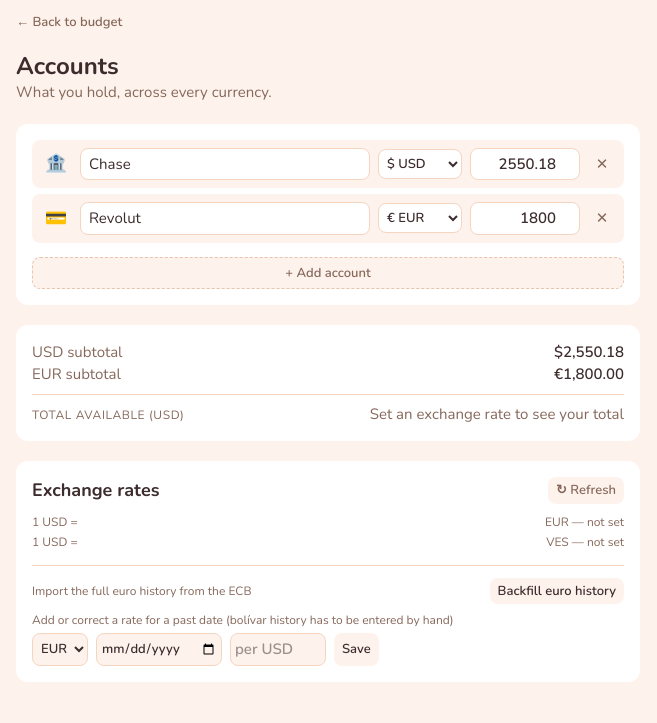
Test: Accounts page › reports when the euro backfill finds nothing new
Expected: the field showing "Chase" is shown, top-left (80, 148), bottom-right (370, 180)
Click the button "Backfill euro history".
click(557, 591)  # box top-left (490, 578), bottom-right (624, 604)
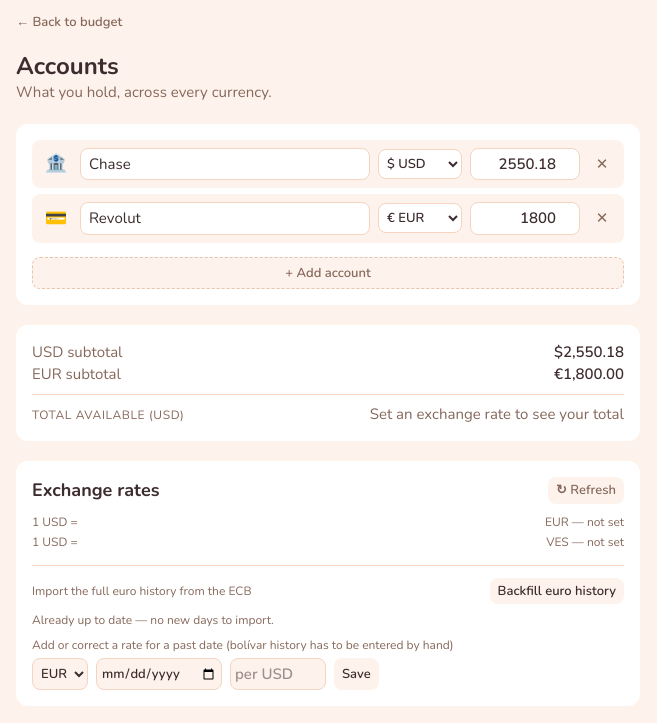
Result: the text with test id "backfill-result" shows "up to date" at top-left (32, 612), bottom-right (274, 628)
